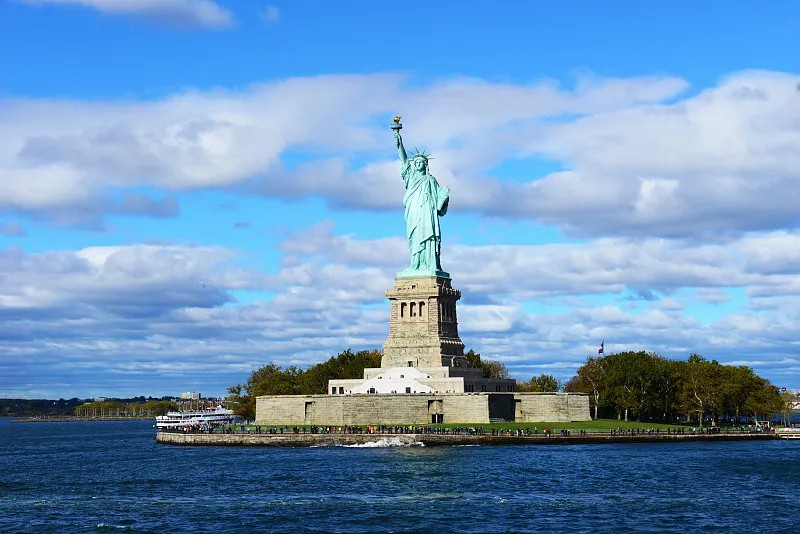SL: (380, 116, 471, 369)
